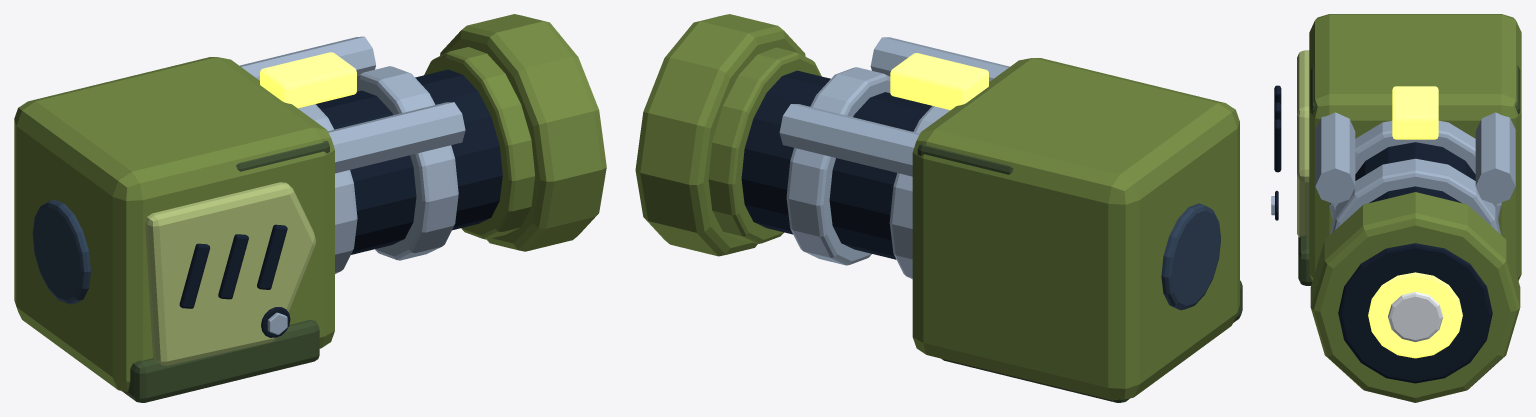
The model's file is pile_cannon.glb.
3 renders of one model, left to right at view 1: azimuth 30°, elevation 25°; view 2: azimuth 150°, elevation 25°; view 3: azimuth 270°, elevation 25°, orthographic. The views are drawn at different scales.
Parts seen in each view (by area): view 1: ModuleArmor; view 2: ModuleArmor; view 3: ModuleArmor.
Boxes of the visible parts, x1,y1,x2,y2 form: ModuleArmor: [14, 14, 606, 402]; ModuleArmor: [635, 14, 1242, 402]; ModuleArmor: [1271, 14, 1521, 402].
Size of the model in its own units: 1.72 by 0.7525 by 0.8135.
